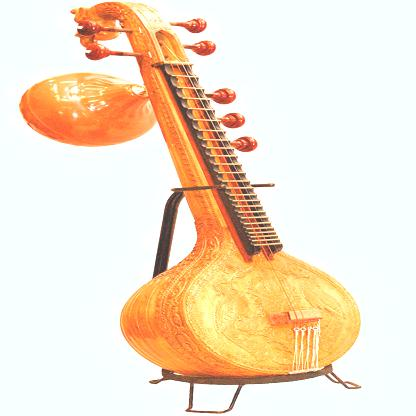Veena: (154, 82, 345, 403)
